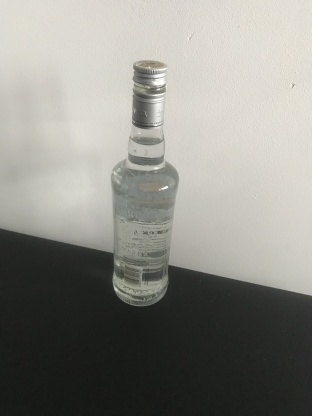nakretka: (130, 58, 168, 129)
